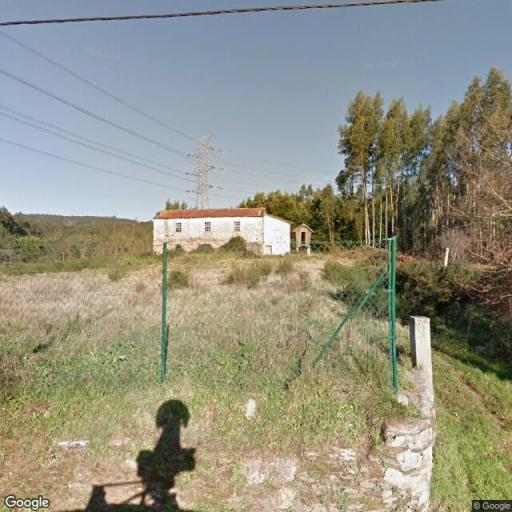ss_3: (188, 133, 221, 207)
